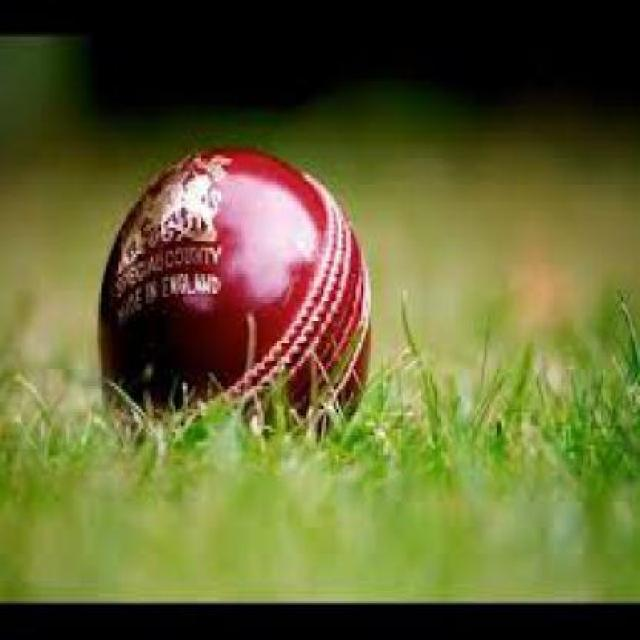ball: (53, 116, 440, 484)
